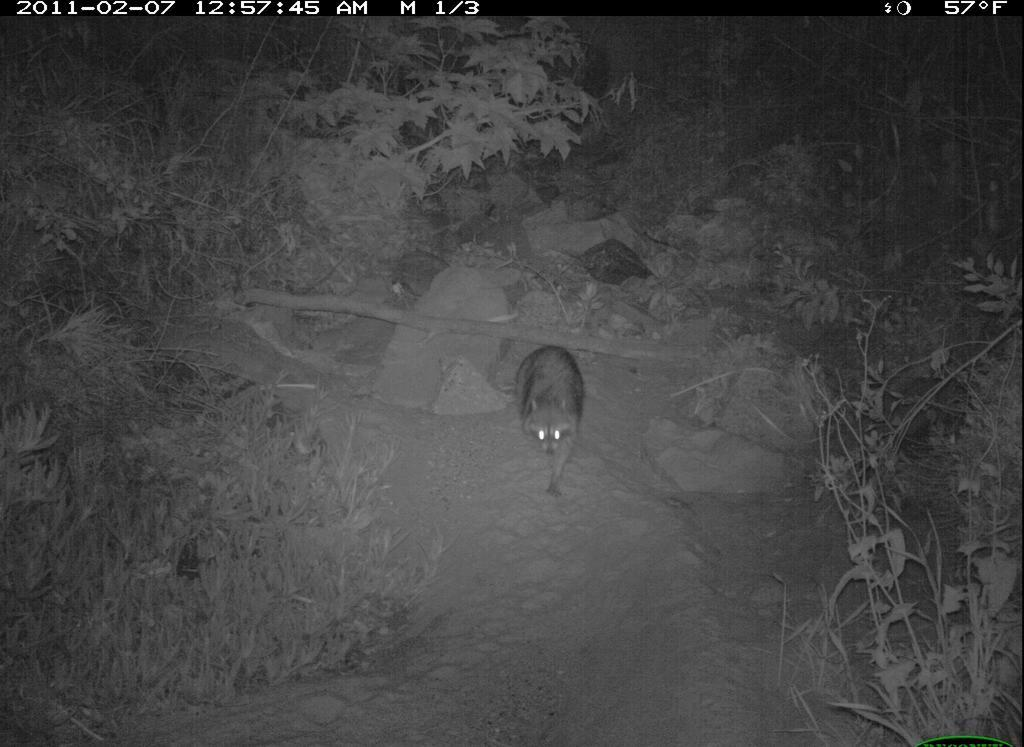raccoon: (509, 333, 594, 511)
